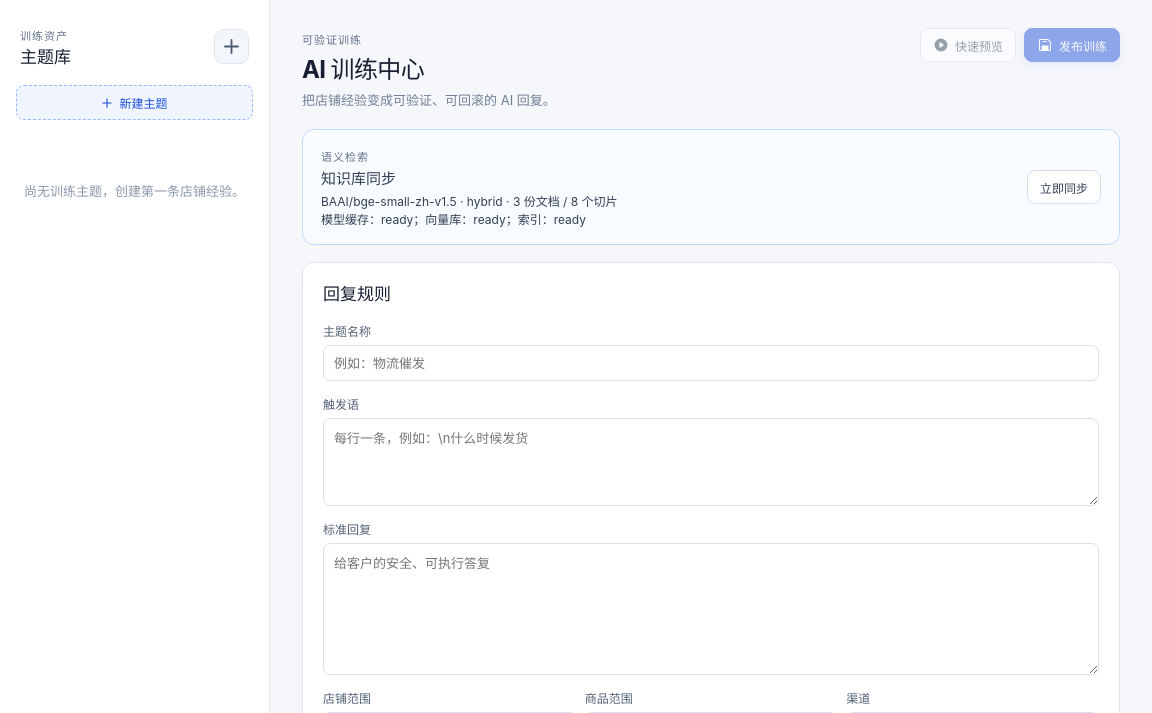
shows knowledge sync status and disables duplicate sync while a job is running
This screenshot has width=1152, height=713.
Expected: the heading "知识库同步" is shown, [321,169,396,188]
Click the button "立即同步" at (1064, 187), box [1027,170,1101,204]
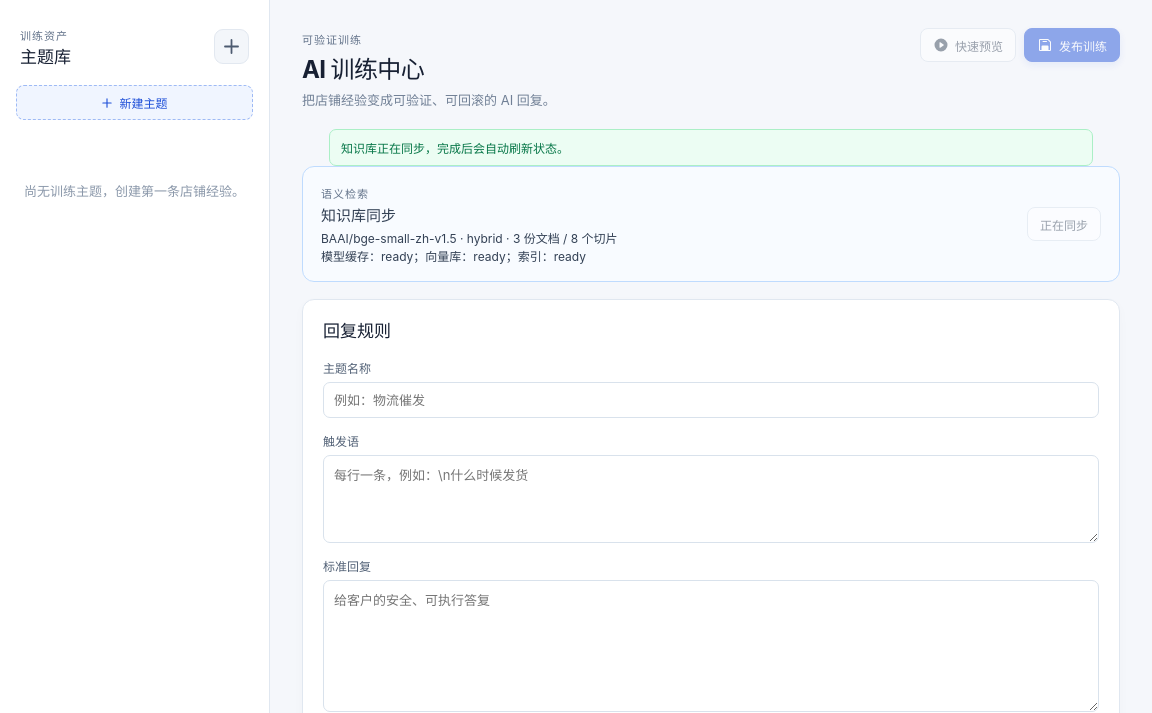
Expected: the button "正在同步" is disabled, [1027,207,1101,241]
